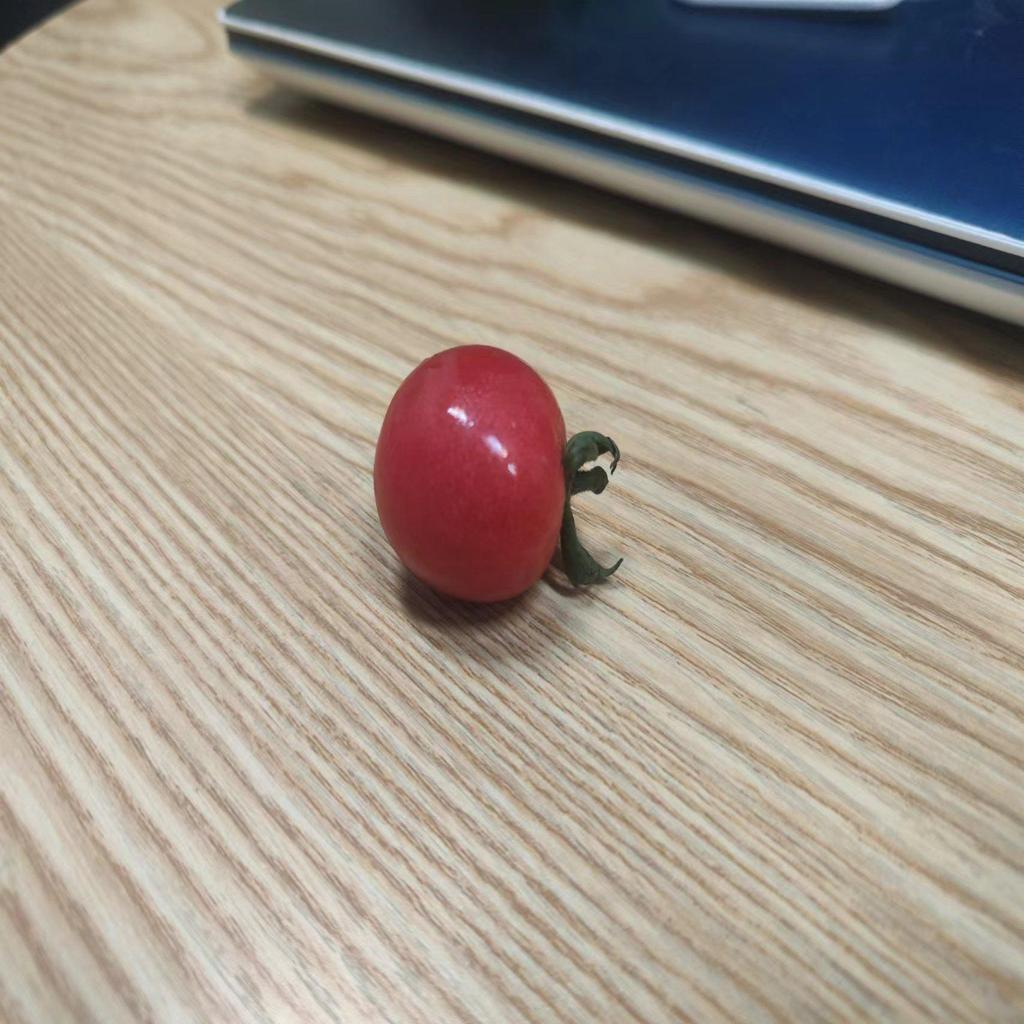tomato: (369, 328, 601, 623)
